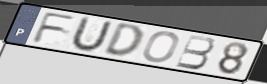8: (216, 42, 250, 76)
B: (174, 33, 216, 71)
D: (101, 23, 144, 59)
F: (29, 11, 78, 45)
O: (140, 31, 182, 64)
U: (67, 15, 115, 53)
